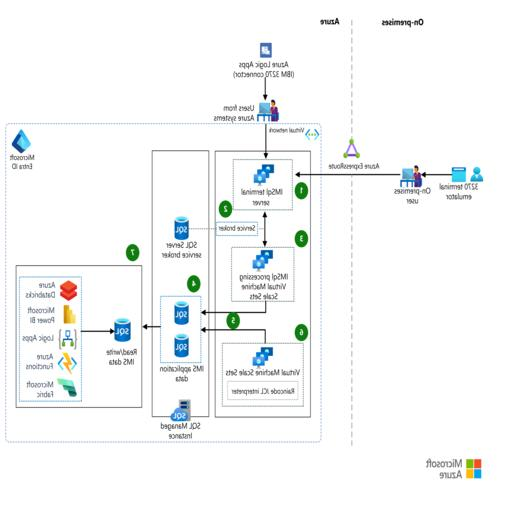actor: (446, 164, 484, 197), (398, 164, 425, 197), (254, 100, 280, 125)
compute: (33, 268, 64, 411), (250, 44, 283, 77), (248, 256, 278, 290), (248, 168, 278, 201), (248, 354, 278, 386)
data_flow: (308, 172, 368, 176), (214, 310, 262, 314), (214, 327, 262, 331), (383, 172, 411, 176), (87, 327, 113, 331), (231, 330, 234, 363), (225, 225, 248, 229), (231, 285, 234, 312), (436, 172, 456, 176), (265, 113, 268, 139), (138, 325, 164, 328), (265, 66, 268, 89), (262, 201, 264, 227)
database_storage: (170, 309, 193, 360), (170, 212, 193, 242), (112, 315, 136, 343), (170, 397, 193, 425)
network_security: (343, 137, 363, 160), (12, 137, 32, 160)
trust_boundary: (0, 1, 353, 506), (6, 97, 322, 468), (353, 1, 506, 506), (215, 150, 311, 416), (17, 258, 142, 416), (152, 150, 210, 416)
